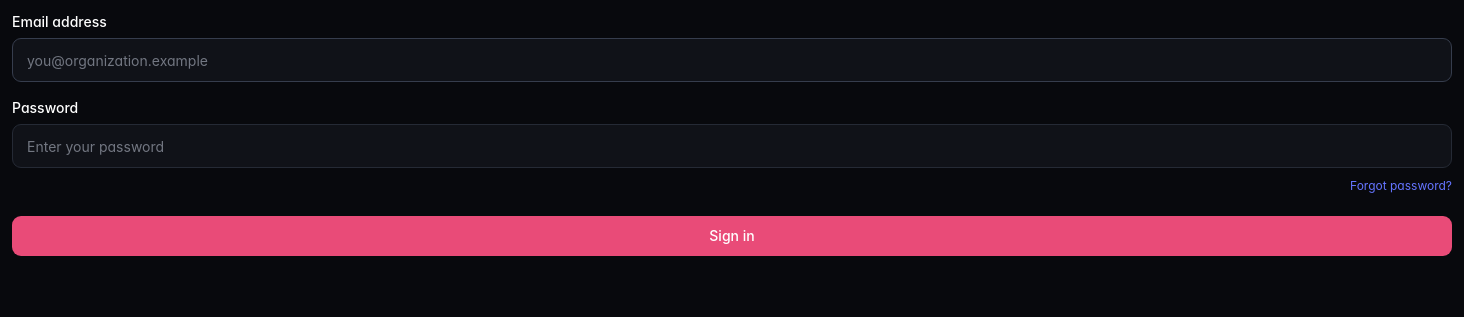
Auth Forms › validates LoginForm email and password
Click the button "Sign in" at (732, 236), box [12,216,1452,256]
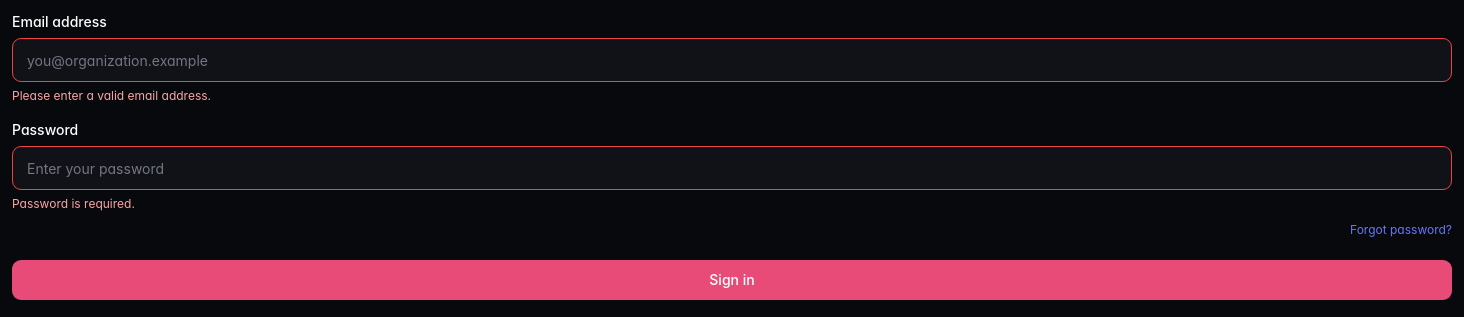
Now the text "Please enter a valid email address." is shown, box [12,88,211,103]
Now the text "Password is required." is shown, box [12,196,135,211]
